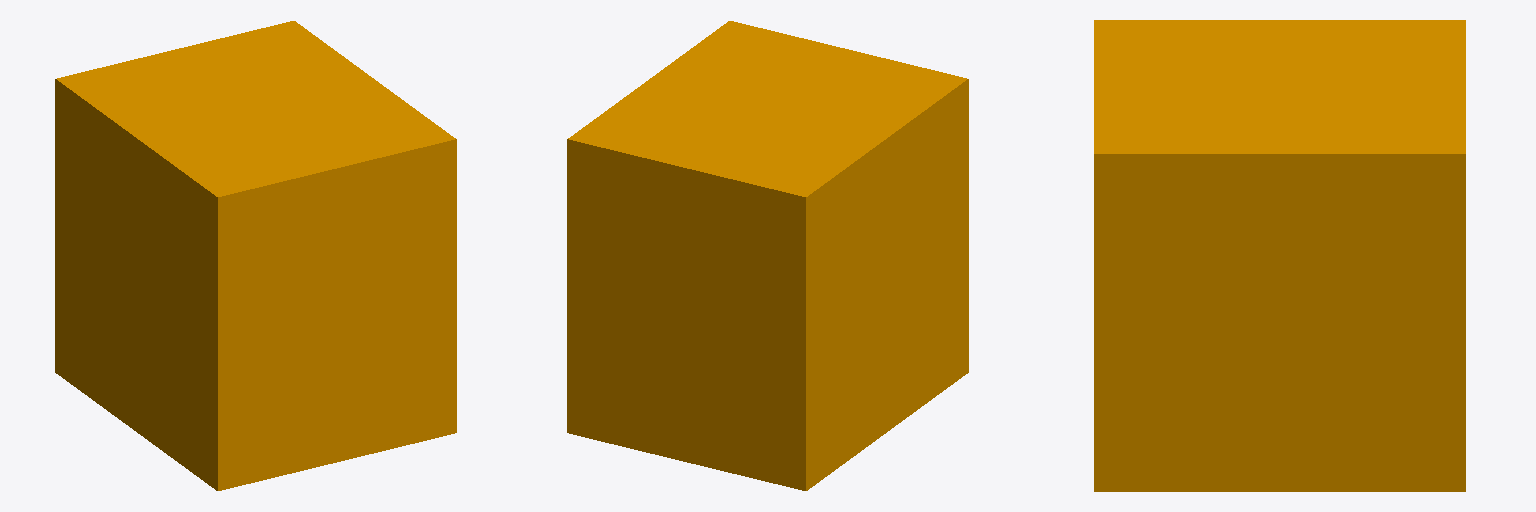
robot.urdf — object:
<robot name="object">
  <link name="object">
    <visual>
      <origin xyz="0 0 0" />
      <geometry>
        <box size="0.068 0.08000000000000002 0.08" />
      </geometry>
    </visual>

    <collision>
      <origin xyz="0 0 0" />
      <geometry>
        <box size="0.068 0.08000000000000002 0.08" />
      </geometry>
    </collision>

    <inertial>
      <mass value="0.05" />
      <inertia ixx="0.0001" ixy="0.0" ixz="0.0" iyy="0.0001" iyz="0.0" izz="0.0001" />
    </inertial>
  </link>
</robot>

--- What the picture shows (computed from the rendered views, not written in the file) ---
3 views of the same robot in one strip: view 1: azimuth 30°, elevation 25°; view 2: azimuth 150°, elevation 25°; view 3: azimuth 270°, elevation 25° (orthographic).
Robot: object — 1 links, 0 joints (none); root link object; default pose: every joint at zero.
Visible links, largest first — view 1: object; view 2: object; view 3: object.
Boxes of the visible links, left/top/right/bottom form: object: left=55, top=21, right=456, bottom=490; object: left=567, top=21, right=968, bottom=490; object: left=1094, top=20, right=1465, bottom=491.
Size in the robot's own frame: 0.068 by 0.08 by 0.08 metres.
Geometry: primitives only (box / cylinder / sphere), no mesh files.